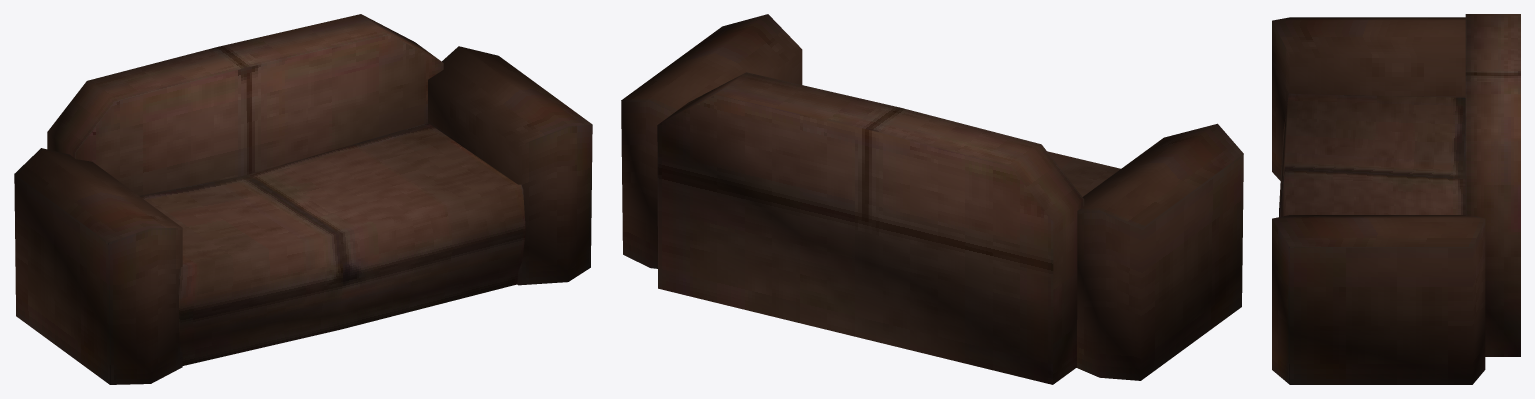
File: Couch.glb
3 renders of one model, left to right at view 1: azimuth 30°, elevation 25°; view 2: azimuth 150°, elevation 25°; view 3: azimuth 270°, elevation 25°, orthographic. The views are drawn at different scales.
Parts seen in each view (by area): view 1: Couch; view 2: Couch; view 3: Couch.
Part boxes in pixels (left/top/right/bottom): Couch: left=14, top=14, right=592, bottom=384; Couch: left=621, top=14, right=1243, bottom=384; Couch: left=1272, top=14, right=1520, bottom=384.
Size of what is drawn, in the model's own units: 2.46 by 0.9518 by 1.13.
Materials: 1 (1 with a texture image).
